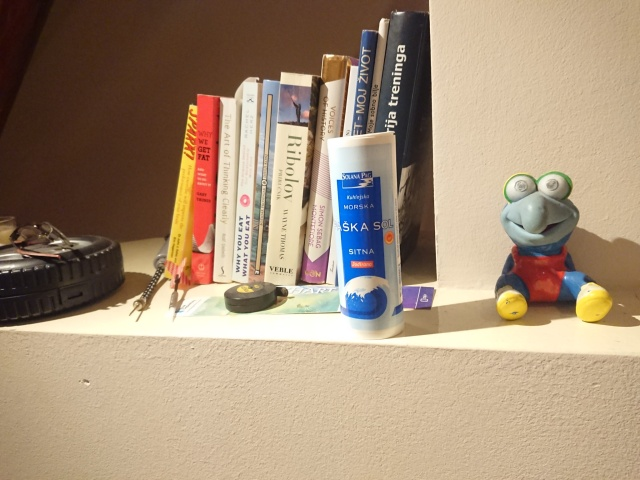Solana Pag Fine Sea Salt 250g: (324, 129, 408, 341)
